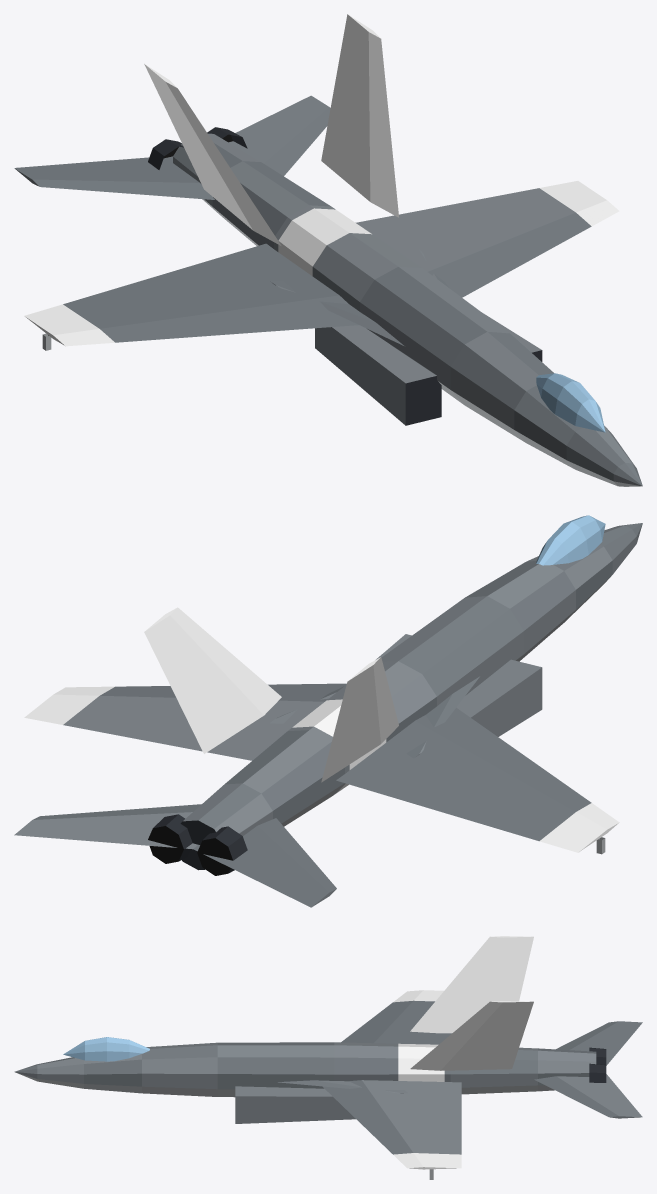
3 views of the same model, one above another, from view 1: azimuth 30°, elevation 25°; view 2: azimuth 150°, elevation 25°; view 3: azimuth 270°, elevation 25° (orthographic). The views are drawn at different scales.
Visible parts, largest first — view 1: body; view 2: body; view 3: body.
Part boxes in pixels (x1=…): body: x1=14, y1=14, x2=642, y2=486; body: x1=14, y1=515, x2=642, y2=907; body: x1=14, y1=936, x2=642, y2=1179.
Bounding box in the file's own units: 12.42 × 4.31 × 18.48.
